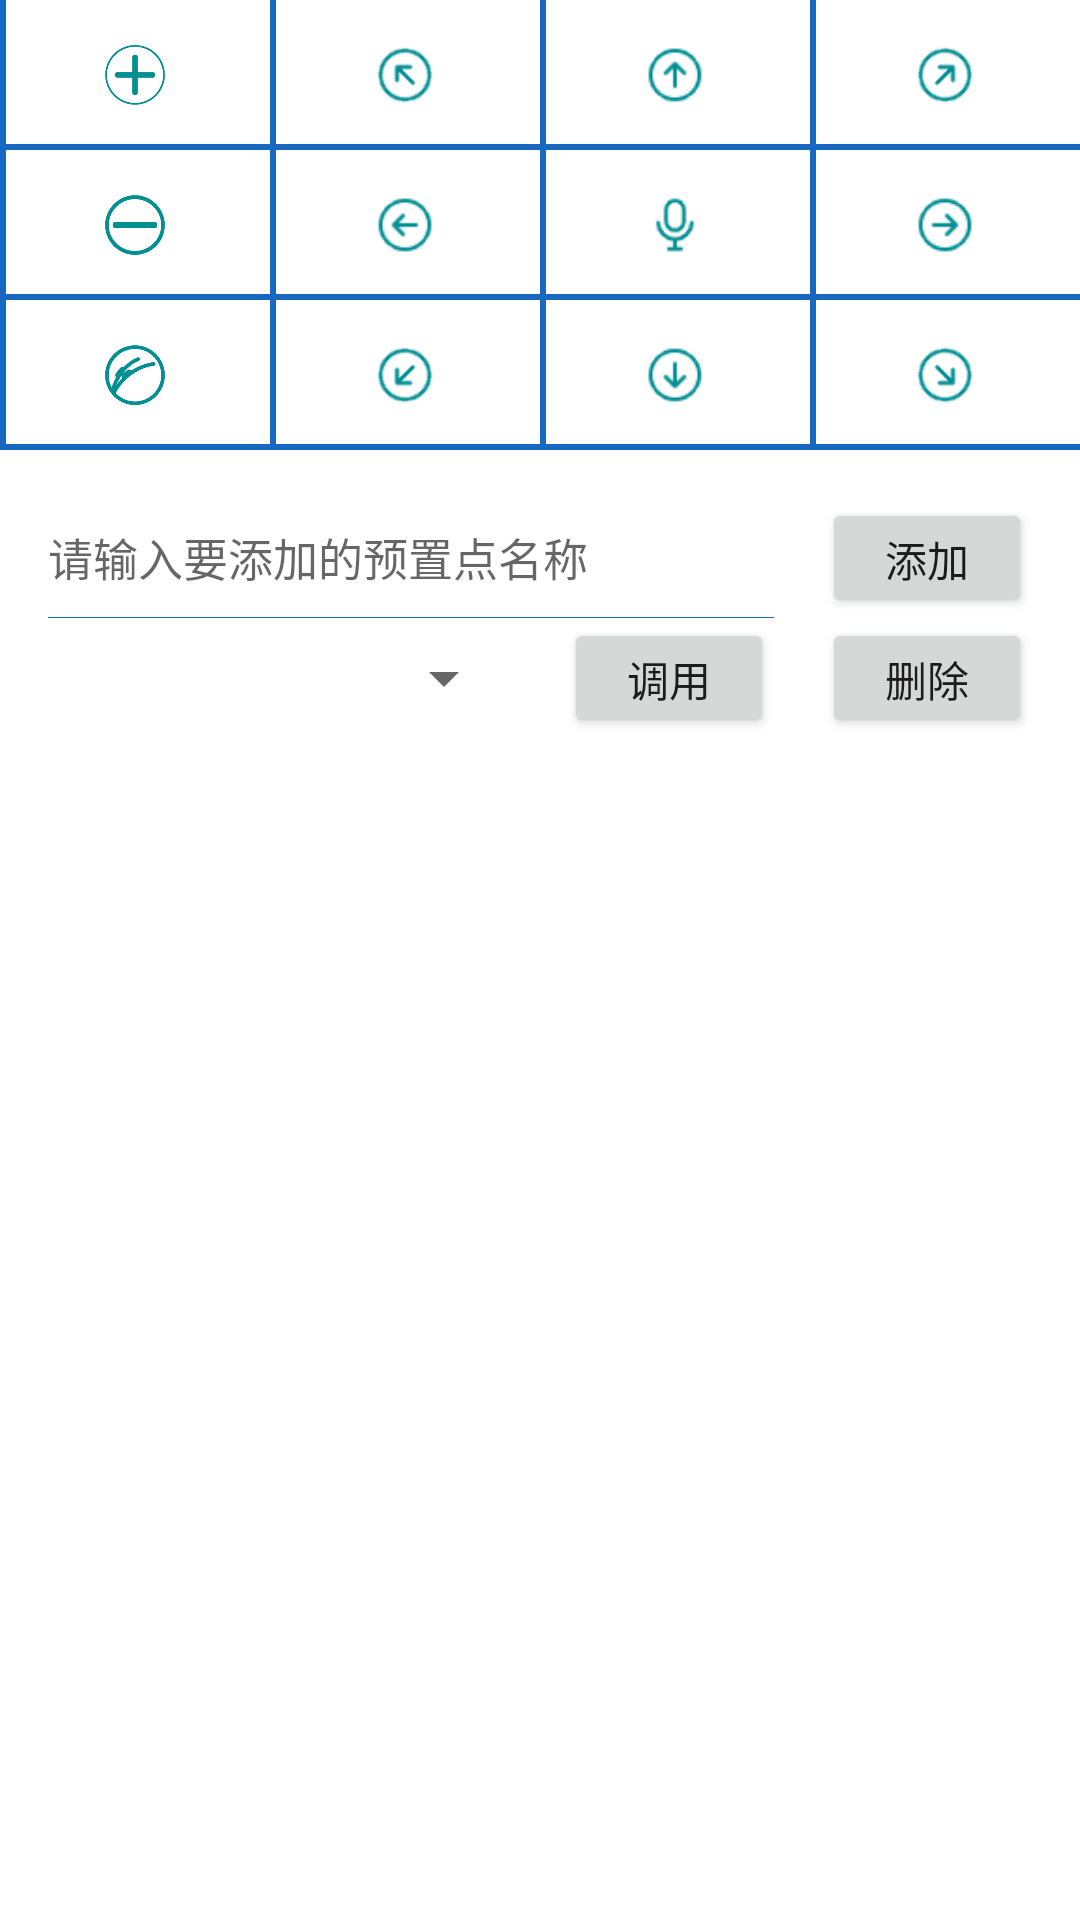

Screen size 1080w x 1920h. Icon name, then its center in pixels as (x=x, y=y):
into: (x=135, y=75)
record speak: (x=675, y=225)
xiao: (x=135, y=225)
yugua: (x=135, y=375)
